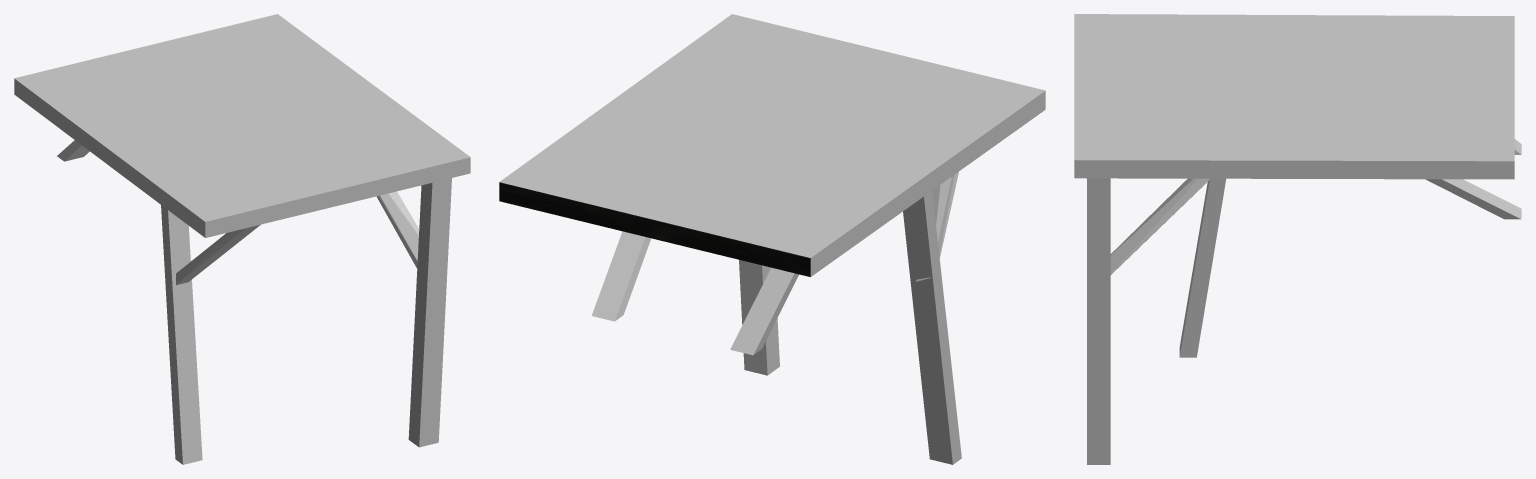
The model's file is OC_BARONSLEDGE_V1.OBJ.
The picture shows the model from 3 angles, left to right: view 1: azimuth 30°, elevation 25°; view 2: azimuth 150°, elevation 25°; view 3: azimuth 270°, elevation 25°; orthographic projection. The views are drawn at different scales.
Parts seen in each view (by area): view 1: OC_BARONSLEDGE_V1; view 2: OC_BARONSLEDGE_V1; view 3: OC_BARONSLEDGE_V1.
Part boxes in pixels (x1=…): OC_BARONSLEDGE_V1: x1=14, y1=14, x2=470, y2=464; OC_BARONSLEDGE_V1: x1=499, y1=14, x2=1045, y2=464; OC_BARONSLEDGE_V1: x1=1074, y1=14, x2=1521, y2=464.
Bounding box in the file's own units: 7.48 × 7.57 × 9.6.
